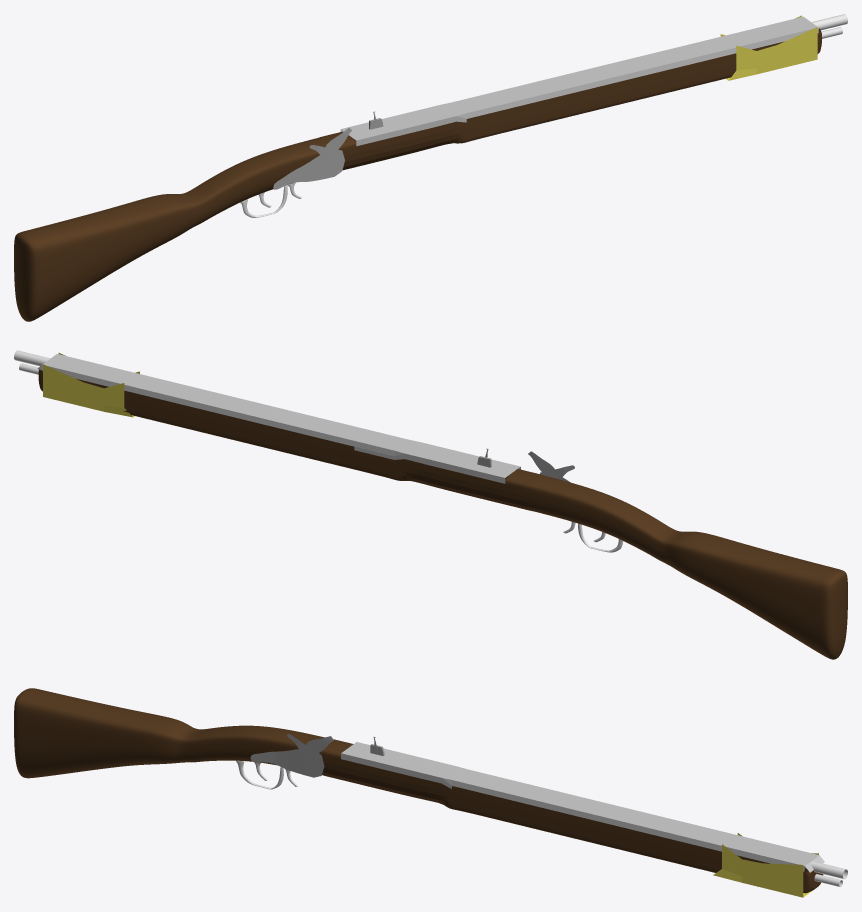
The model's file is weapon.fbx.
The picture shows the model from 3 angles, top to bottom: view 1: azimuth 30°, elevation 25°; view 2: azimuth 150°, elevation 25°; view 3: azimuth 330°, elevation 25°; orthographic projection.
Parts seen in each view (by area): view 1: Cube.002, Cube.001, Cube, Плоскость.005, Плоскость.002; view 2: Cube.002, Cube.001, Cube, Плоскость.005; view 3: Cube.002, Cube, Cube.001, Плоскость.005, Плоскость.002.
Boxes of the visible parts, box(x1,y1,x2,y2) form: Cube.002: box(14, 137, 328, 321); Cube.001: box(340, 16, 820, 146); Cube: box(320, 28, 821, 170); Плоскость.005: box(720, 15, 817, 80); Плоскость.002: box(273, 149, 344, 189); Cube.002: box(518, 474, 847, 659); Cube.001: box(37, 354, 520, 483); Cube: box(38, 369, 540, 511); Плоскость.005: box(43, 353, 139, 417); Cube.002: box(14, 688, 324, 778); Cube: box(321, 739, 823, 893); Cube.001: box(341, 742, 824, 872); Плоскость.005: box(713, 833, 818, 897); Плоскость.002: box(250, 749, 324, 777).
Size of the model in its own units: 795 by 115 by 36.92.
